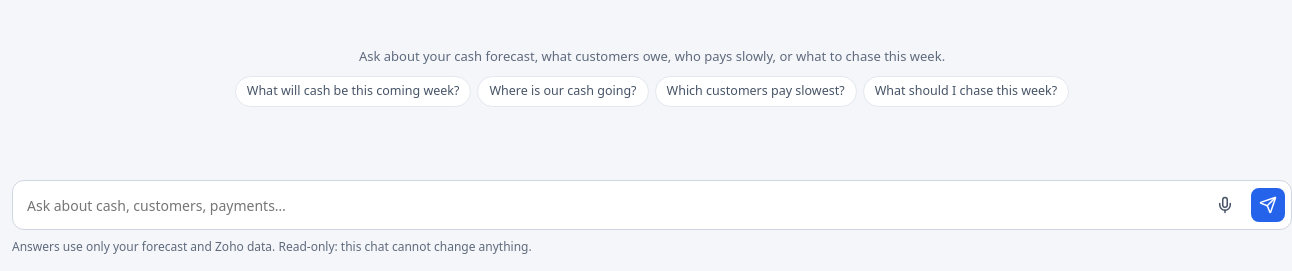
Scenario: ChatThread › shows starter questions only while the chat is empty, and streams the answer
Click the button "Where is our cash going?".
click(563, 92)  # box 478,76 -> 649,107
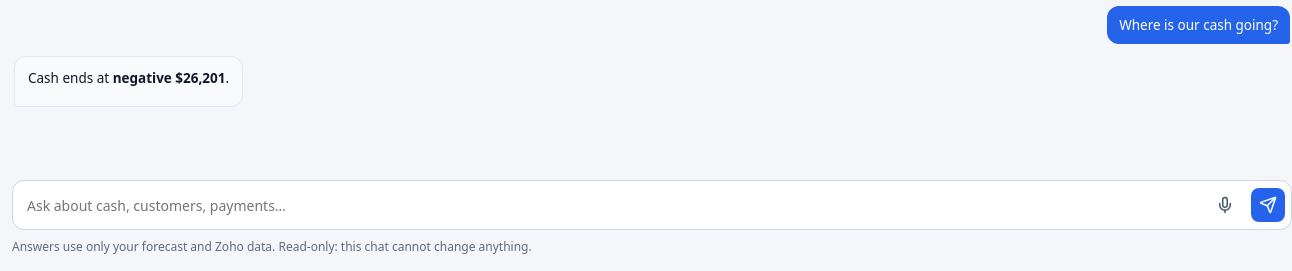
Expected: the text "Where is our cash going?" is shown, 1107,6 -> 1290,44
Expected: the text "negative $26,201" is shown, 113,69 -> 226,87
